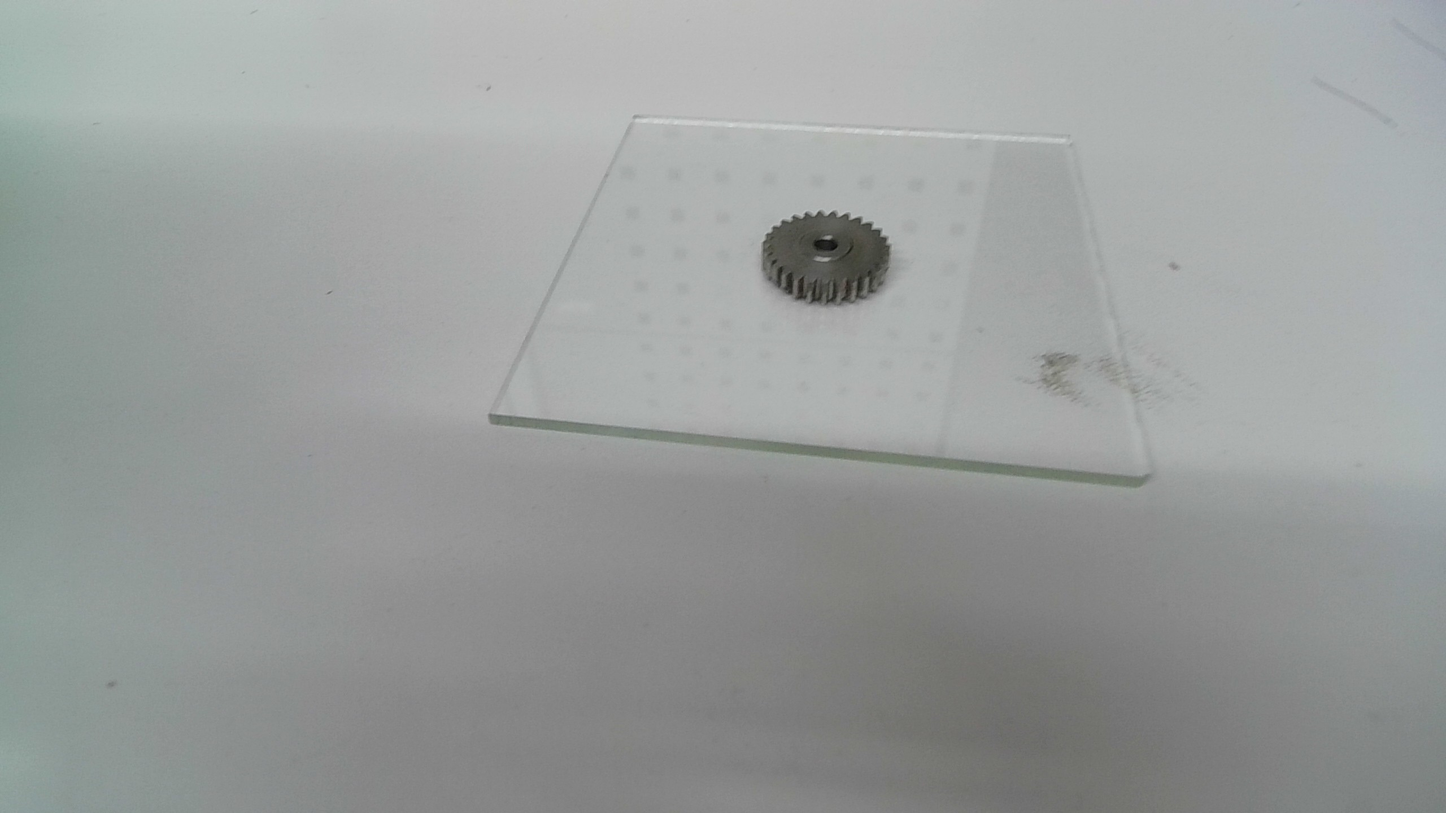gear: (758, 209, 894, 305)
